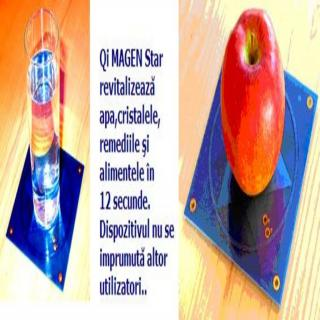Apple: (226, 10, 288, 204)
